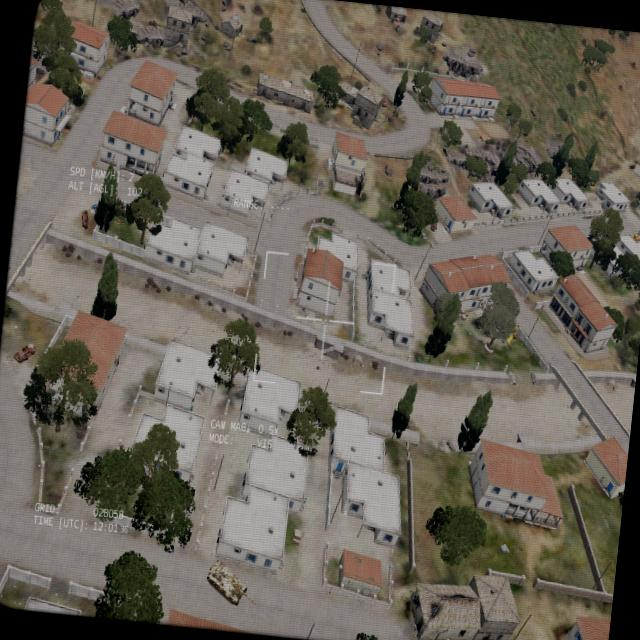tank: (201, 556, 261, 608)
